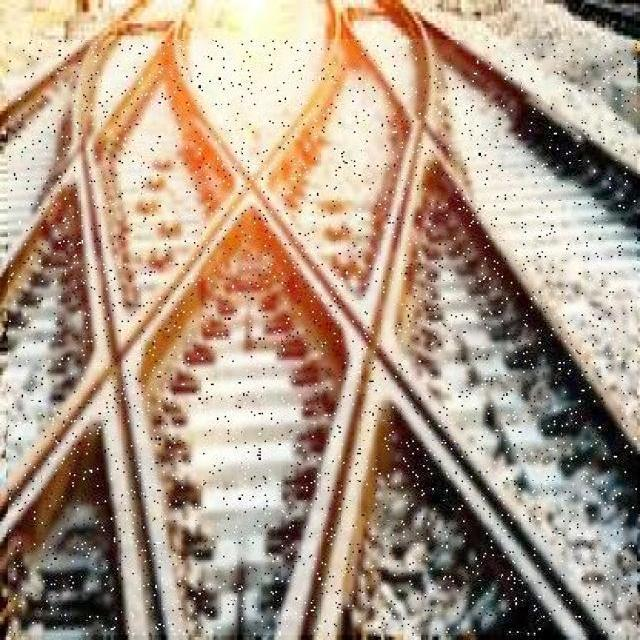rail: (9, 41, 638, 637)
